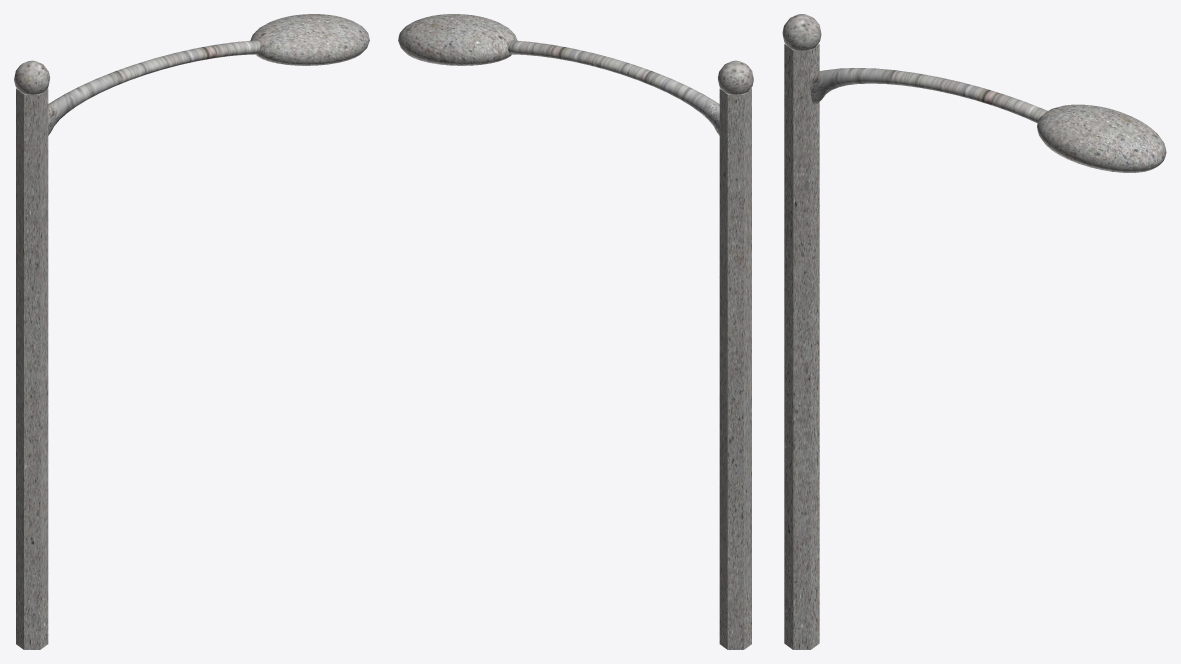
File: StreetLamp.obj
3 views of the same model, side by side, from view 1: azimuth 30°, elevation 25°; view 2: azimuth 150°, elevation 25°; view 3: azimuth 330°, elevation 25° (orthographic). The views are drawn at different scales.
Visible parts, largest first — view 1: Pole_Cylinder, LightPart_Sphere, Torus.001, Sphere_Sphere.001; view 2: Pole_Cylinder, LightPart_Sphere, Torus.001, Sphere_Sphere.001; view 3: Pole_Cylinder, LightPart_Sphere, Torus.001, Sphere_Sphere.001.
Part boxes in pixels (<box>): Pole_Cylinder: <box>16,88,48,649</box>; LightPart_Sphere: <box>250,14,369,65</box>; Torus.001: <box>48,40,260,135</box>; Sphere_Sphere.001: <box>14,60,49,94</box>; Pole_Cylinder: <box>719,88,751,649</box>; LightPart_Sphere: <box>398,14,517,65</box>; Torus.001: <box>507,40,719,135</box>; Sphere_Sphere.001: <box>718,60,753,94</box>; Pole_Cylinder: <box>784,43,819,649</box>; LightPart_Sphere: <box>1037,104,1166,172</box>; Torus.001: <box>810,68,1047,123</box>; Sphere_Sphere.001: <box>782,14,821,50</box>.
Size of the model in its own units: 3.51 by 5.59 by 0.7689.
